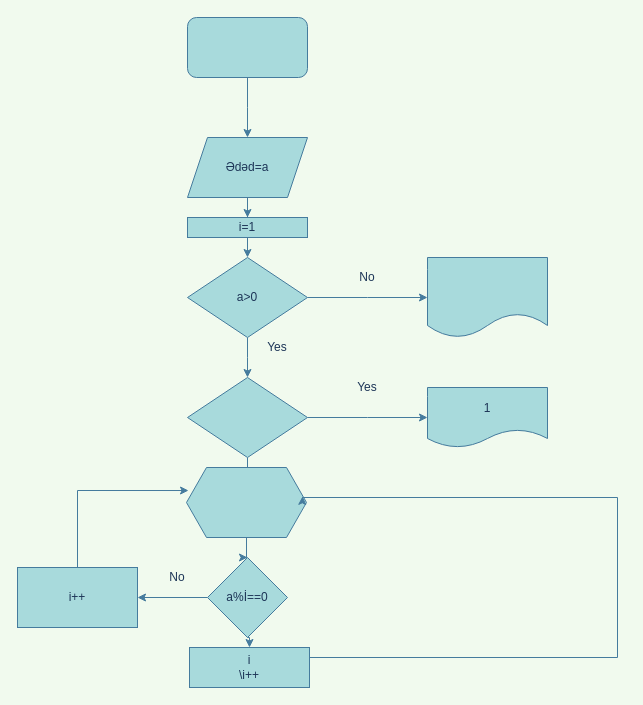
This 643x705 diagram has some shape labels left out. The centre of each missing label's shape, as x and y in pixels:
a==1: point (247, 417)
İ<a: point (246, 502)
Müsbət ədəd daxil edin.: point (487, 297)
Stat: point (247, 47)
